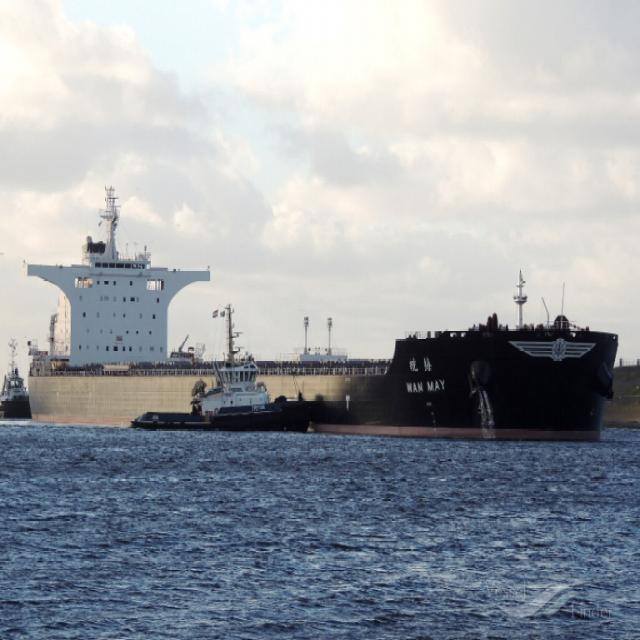OCR: (397, 378, 448, 399)
